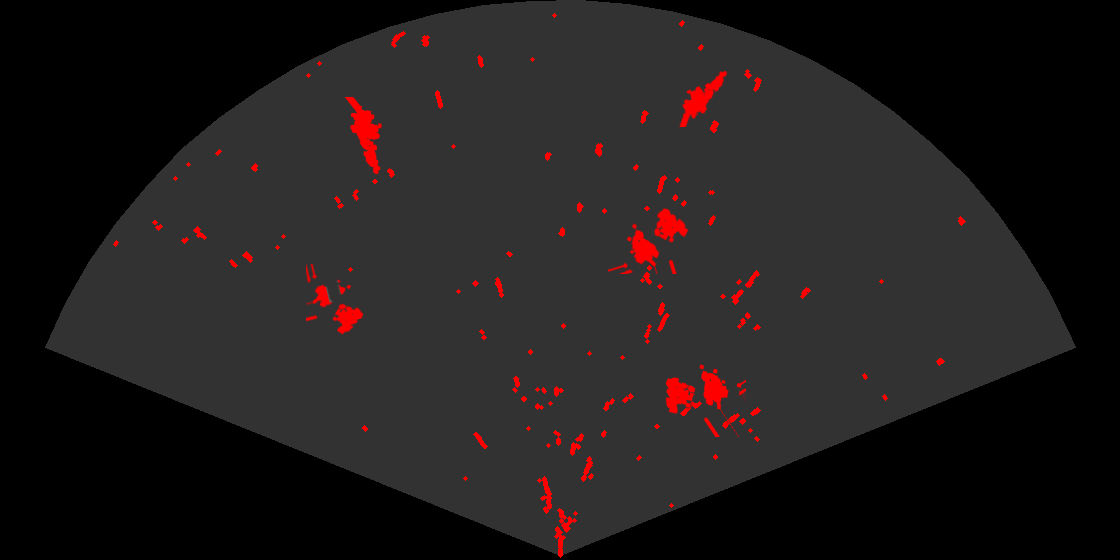cage: (664, 363, 746, 437), (608, 206, 690, 274), (306, 264, 365, 336)
frogman: (343, 97, 383, 176), (678, 69, 729, 127)
